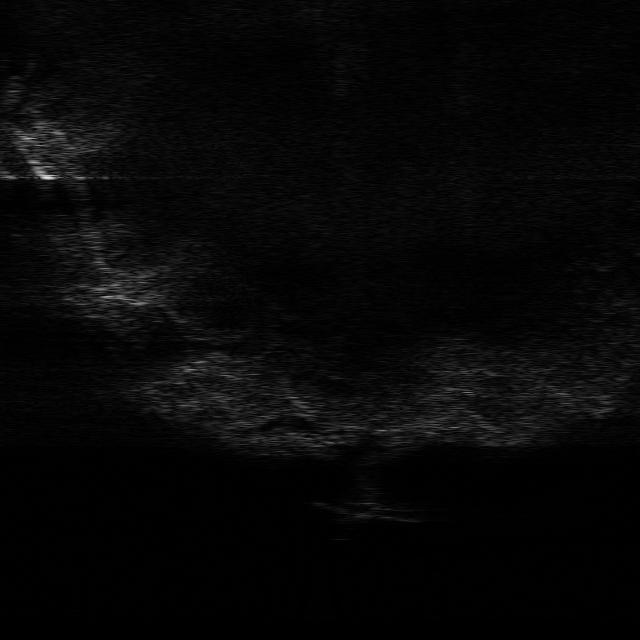plane: (312, 499, 418, 524)
